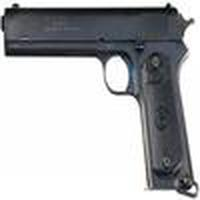gun: (3, 1, 200, 194)
